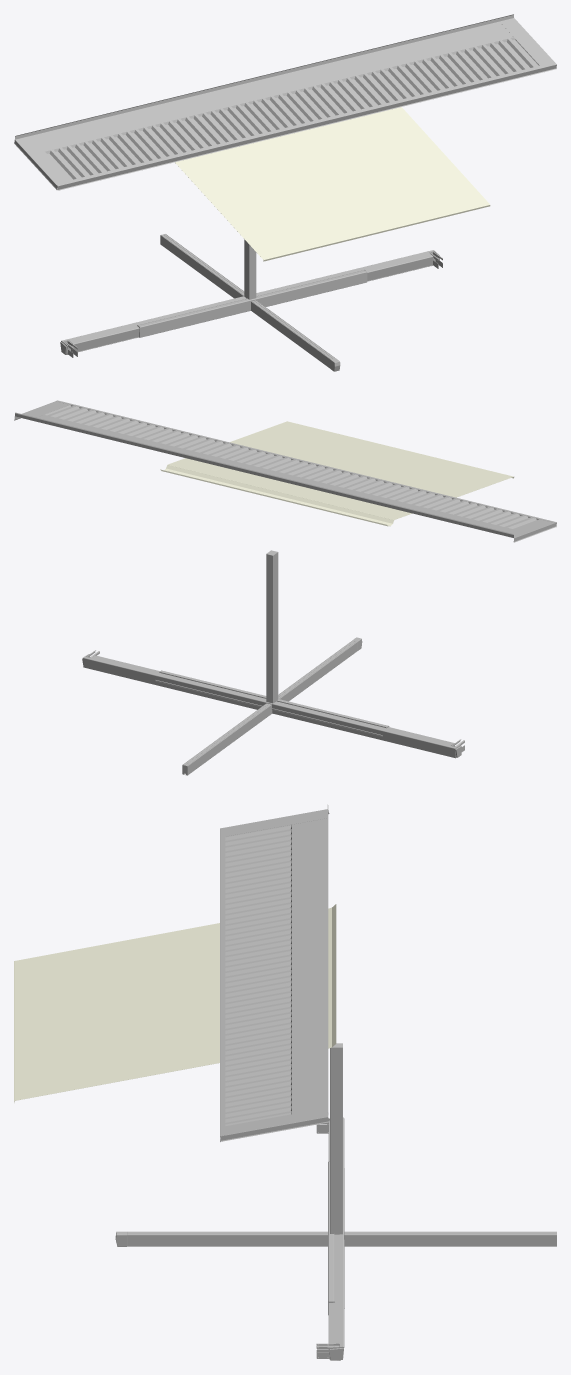
File: flag.fbx
3 views of the same model, one above another, from view 1: azimuth 30°, elevation 25°; view 2: azimuth 150°, elevation 25°; view 3: azimuth 270°, elevation 25° (orthographic). The views are drawn at different scales.
Visible parts, largest first — view 1: Tettuccio, Telo, Trave_Posteriore, Trave, Guida, Montante; view 2: Tettuccio, Telo, Trave_Posteriore, Guida, Montante, Trave; view 3: Tettuccio, Telo, Guida, Montante, Trave_Posteriore, Trave.
Boxes of the visible parts, <box> form: Tettuccio: <box>14,14,556,190</box>; Telo: <box>175,107,490,261</box>; Trave_Posteriore: <box>60,250,439,354</box>; Trave: <box>137,269,367,337</box>; Guida: <box>160,234,340,371</box>; Montante: <box>244,239,256,299</box>; Tettuccio: <box>14,400,556,542</box>; Telo: <box>160,421,514,526</box>; Trave_Posteriore: <box>82,654,461,758</box>; Guida: <box>182,637,362,775</box>; Montante: <box>266,550,278,703</box>; Trave: <box>155,670,389,736</box>; Tettuccio: <box>220,804,329,1141</box>; Telo: <box>14,904,336,1102</box>; Guida: <box>115,1231,556,1246</box>; Montante: <box>330,1043,342,1234</box>; Trave_Posteriore: <box>328,1117,344,1360</box>; Trave: <box>328,1161,344,1315</box>.
Size of the model in its own units: 662 by 295 by 492.
